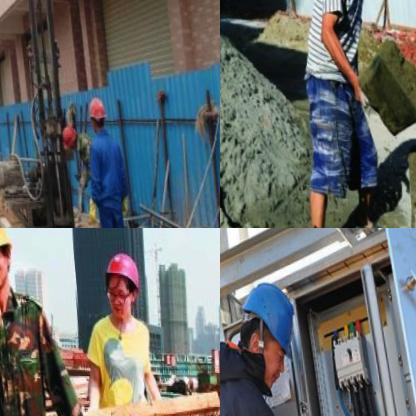helmet: (233, 275, 302, 378), (103, 249, 140, 314), (0, 228, 14, 287), (84, 95, 103, 132), (54, 124, 75, 147)
